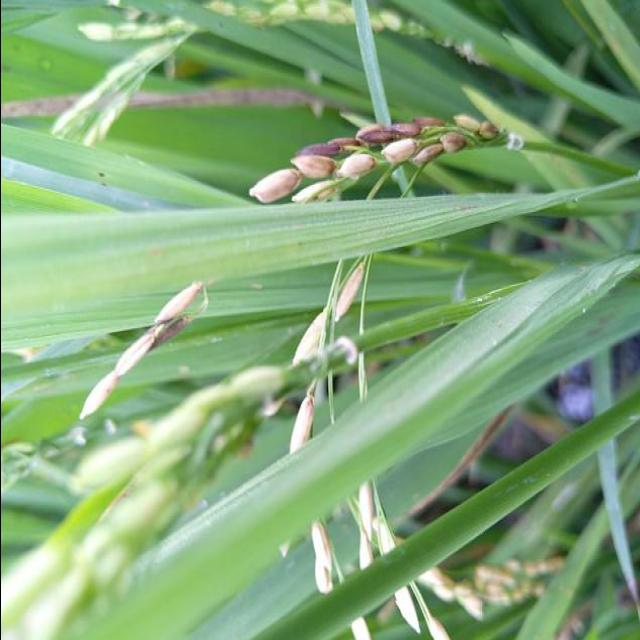Panicle Blight: (259, 112, 502, 203), (87, 282, 206, 415), (297, 259, 371, 361), (291, 381, 323, 452)
